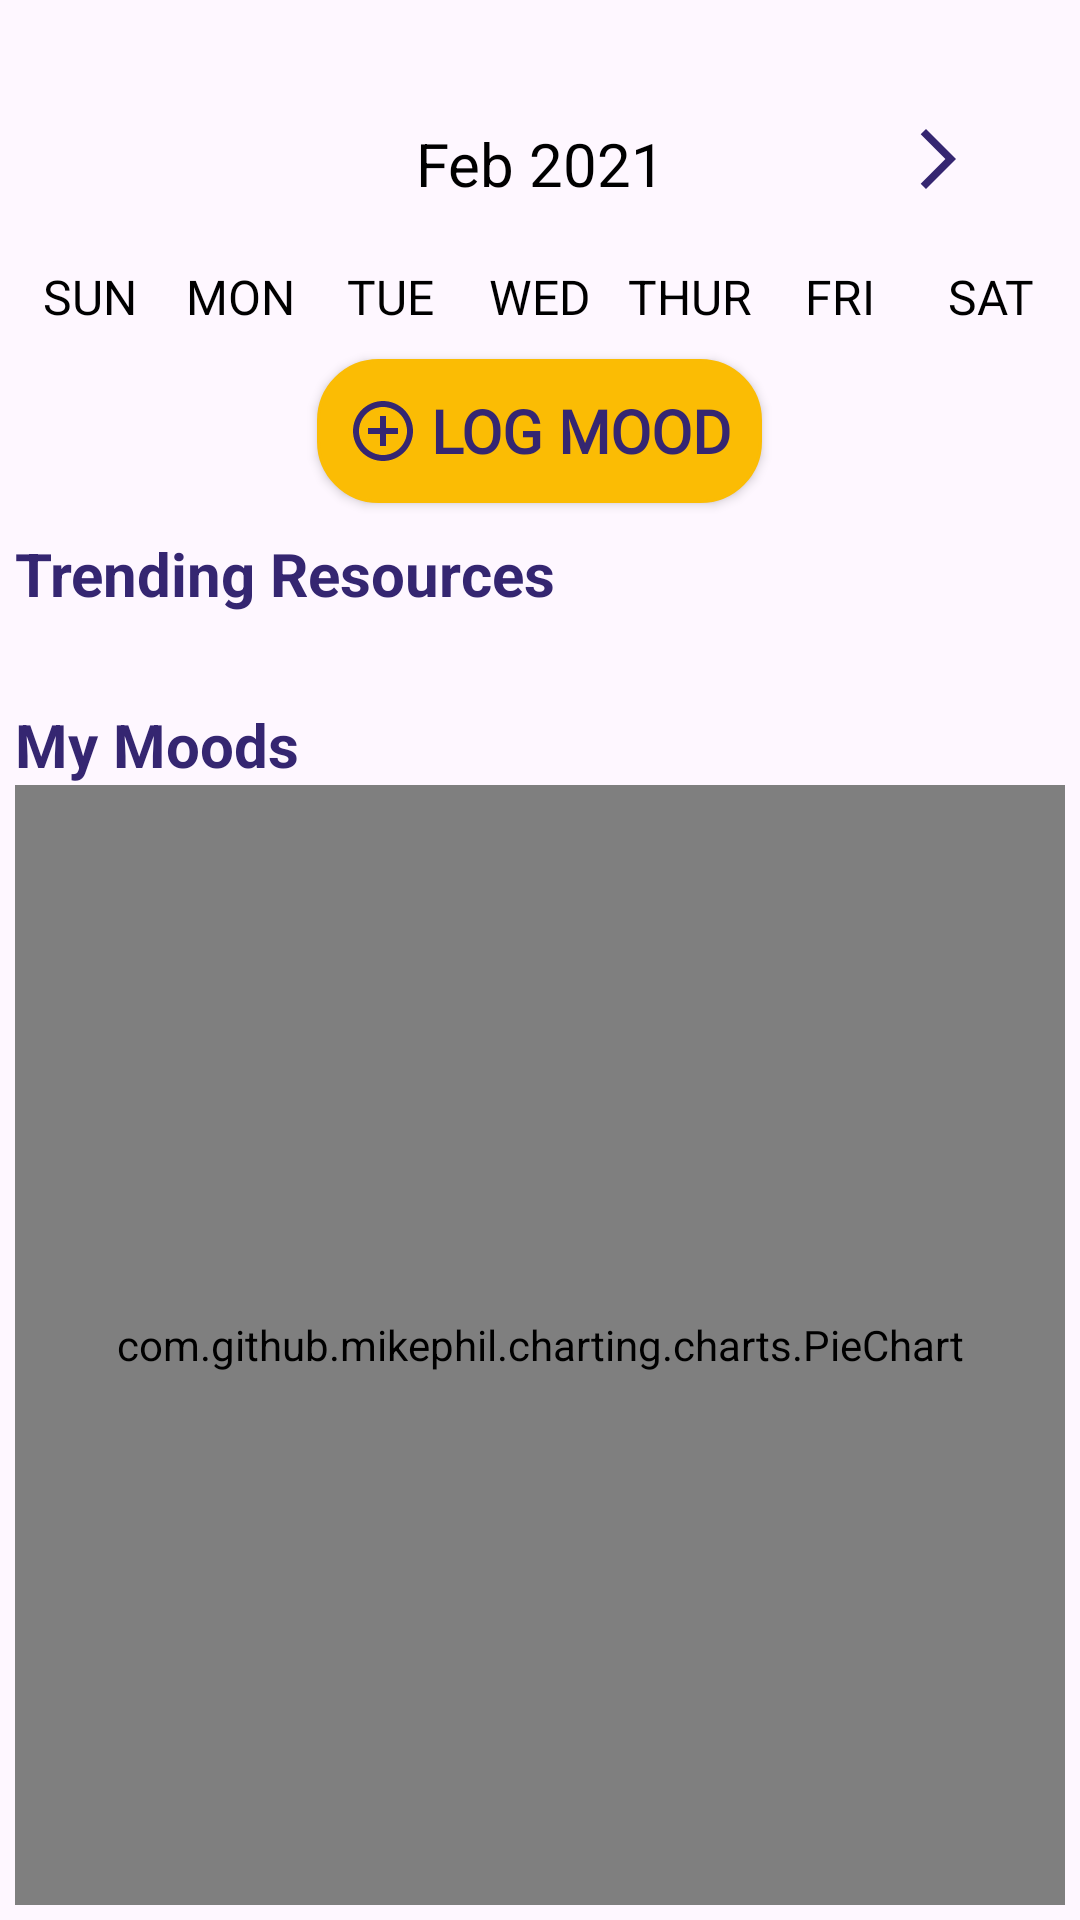

Icons on this 1080*1920 Android screen, each with the point to tap as [x,y]:
calendar forward: [938,159]
